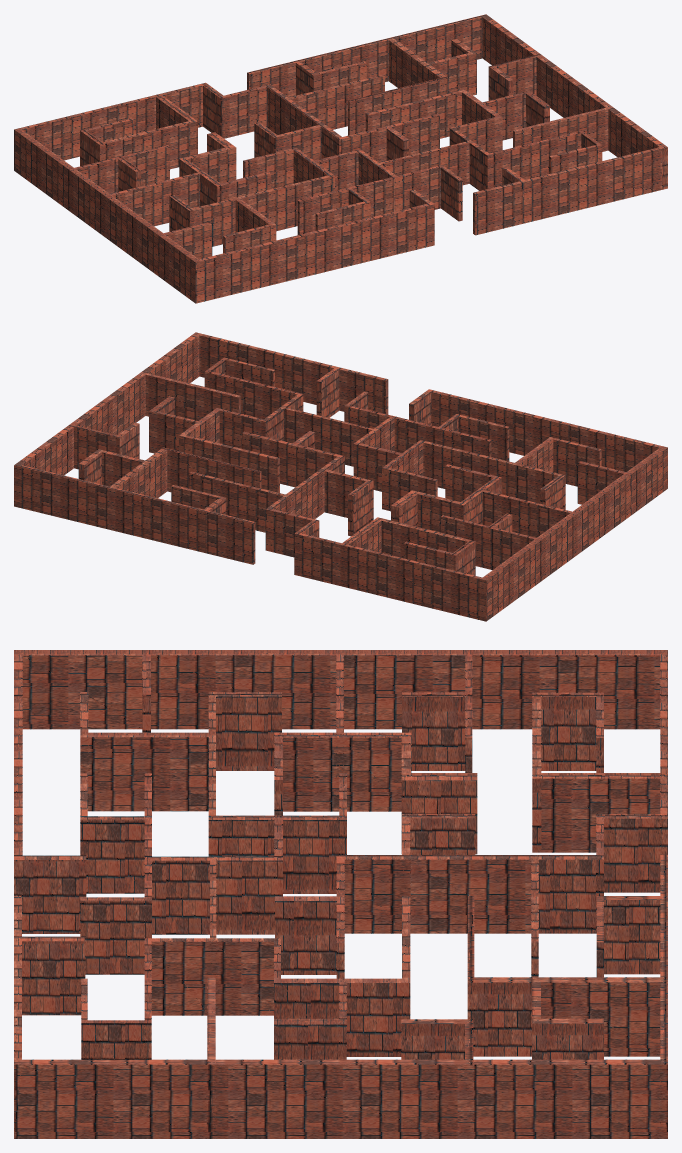
The model's file is maze.fbx.
3 renders of one model, top to bottom at view 1: azimuth 30°, elevation 25°; view 2: azimuth 150°, elevation 25°; view 3: azimuth 270°, elevation 25°, orthographic. The views are drawn at different scales.
Visible parts, largest first — view 1: pCube1; view 2: pCube1; view 3: pCube1.
Boxes of the visible parts, box(x1,y1,x2,y2) form: pCube1: box(14, 14, 667, 303); pCube1: box(14, 332, 667, 621); pCube1: box(14, 650, 667, 1138).
Bounding box in the file's own units: 480 × 40 × 320.
